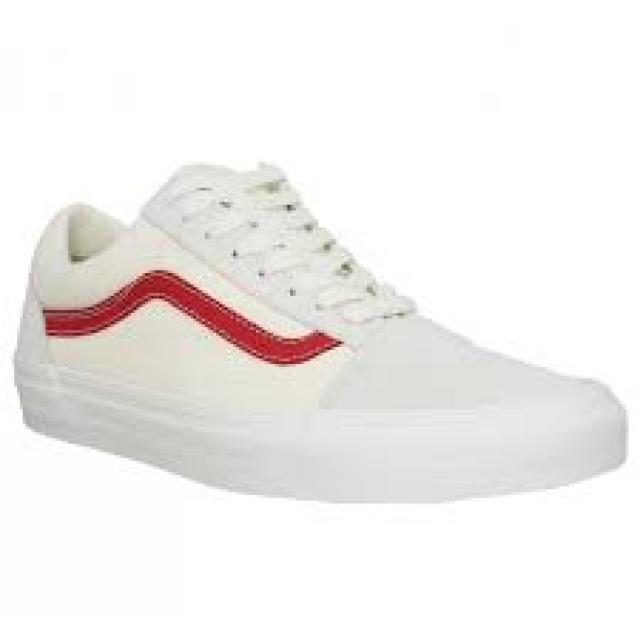shoe: (7, 150, 631, 508)
